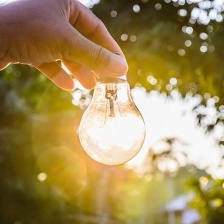light_bulb: (72, 48, 151, 168)
